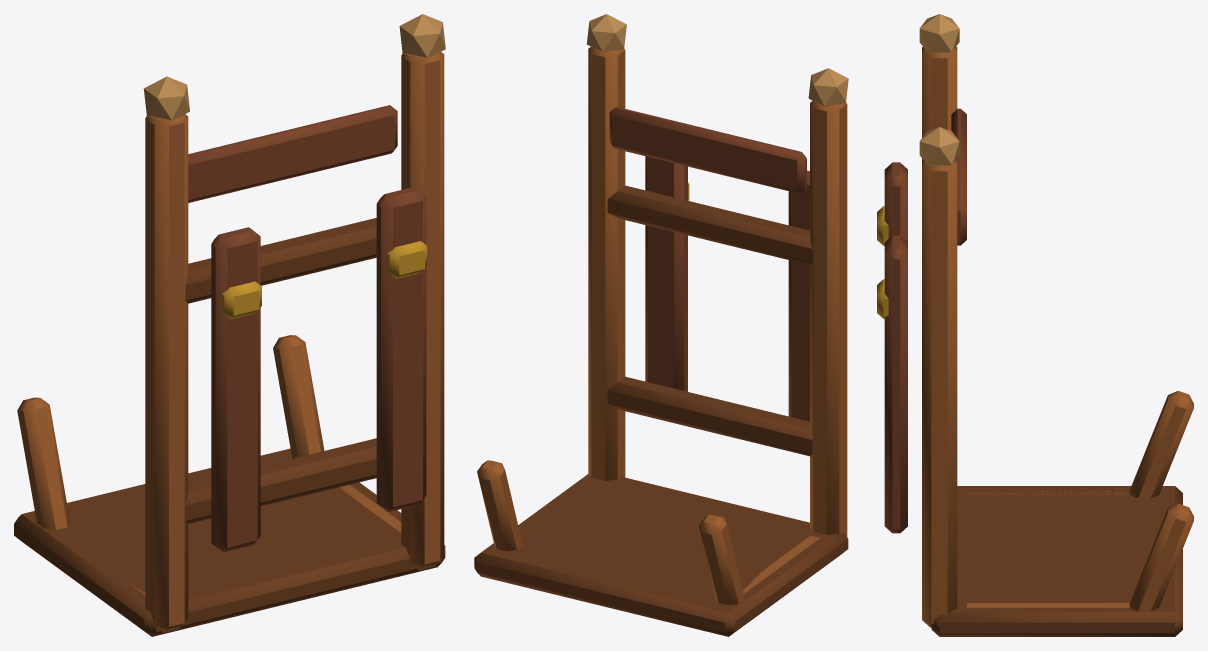
Rendered from cg_kraxe.glb.
3 views of the same model, side by side, from view 1: azimuth 30°, elevation 25°; view 2: azimuth 150°, elevation 25°; view 3: azimuth 270°, elevation 25° (orthographic). The views are drawn at different scales.
Parts seen in each view (by area): view 1: body; view 2: body; view 3: body.
Part boxes in pixels (box(x1,y1,x2,y2)): body: box(14, 14, 445, 636); body: box(474, 14, 848, 636); body: box(877, 14, 1193, 636).
Size of the model in its own units: 0.4 by 0.7075 by 0.4033.
